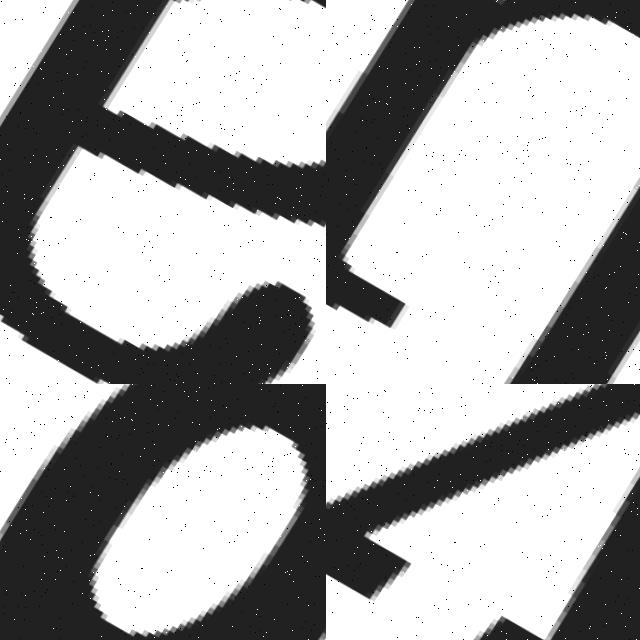A: (0, 0, 326, 384)
P: (0, 384, 326, 640)
U: (326, 0, 640, 384)
V: (326, 384, 640, 640)
